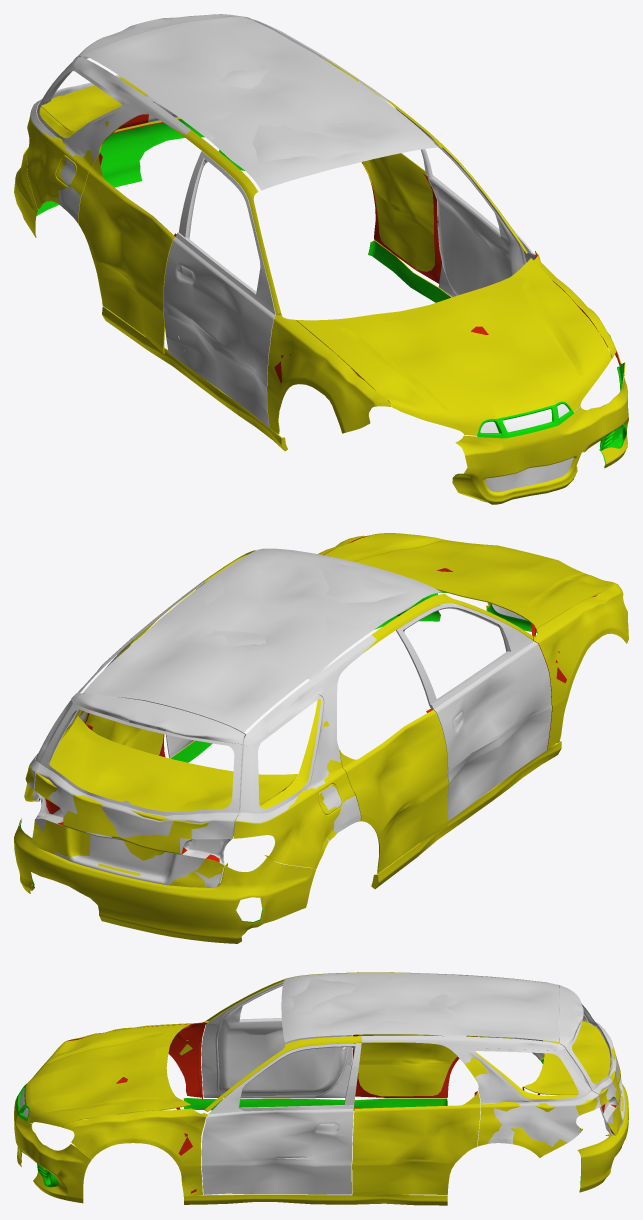
The model's file is sunburst2_beater.dae.
The picture shows the model from 3 angles, top to bottom: view 1: azimuth 30°, elevation 25°; view 2: azimuth 150°, elevation 25°; view 3: azimuth 270°, elevation 25°; orthographic projection. The views are drawn at different scales.
Visible parts, largest first — view 1: sunburst2_beater_hood, sunburst2_beater_roof_plain_wagon, sunburst2_beater_door_FR, sunburst2_beater_bumper_F, sunburst2_beater_door_sheet_RR, sunburst2_beater_door_FL, sunburst2_beater_fender_R, sunburst2_beater_door_sheet_RL, sunburst2_beater_quarterpanels, sunburst2_beater_quarterpanels_wagon, sunburst2_beater_roof_plain, sunburst2_beater_bumper_R (+5 smaller); view 2: sunburst2_beater_roof_plain_wagon, sunburst2_beater_trunk, sunburst2_beater_door_FR, sunburst2_beater_tailgate_wagon, sunburst2_beater_bumper_R, sunburst2_beater_hood, sunburst2_beater_door_sheet_RR, sunburst2_beater_quarterpanels_wagon, sunburst2_beater_quarterpanels, sunburst2_beater_fender_R, sunburst2_beater_roof_plain, sunburst2_beater_sideskirt_R (+2 smaller); view 3: sunburst2_beater_roof_plain_wagon, sunburst2_beater_door_FL, sunburst2_beater_hood, sunburst2_beater_door_sheet_RL, sunburst2_beater_door_FR, sunburst2_beater_quarterpanels_wagon, sunburst2_beater_fender_L, sunburst2_beater_door_sheet_RR, sunburst2_beater_quarterpanels, sunburst2_beater_trunk, sunburst2_beater_bumper_F, sunburst2_beater_tailgate_wagon (+5 smaller).
Part boxes in pixels (x1,y1,x2,y2): sunburst2_beater_hood: (296, 258, 611, 438); sunburst2_beater_roof_plain_wagon: (42, 16, 437, 190); sunburst2_beater_door_FR: (163, 151, 276, 426); sunburst2_beater_bumper_F: (452, 362, 628, 504); sunburst2_beater_door_sheet_RR: (78, 153, 176, 353); sunburst2_beater_door_FL: (394, 107, 535, 297); sunburst2_beater_fender_R: (267, 314, 391, 433); sunburst2_beater_door_sheet_RL: (361, 153, 441, 283); sunburst2_beater_quarterpanels: (26, 58, 527, 314); sunburst2_beater_quarterpanels_wagon: (30, 17, 391, 220); sunburst2_beater_roof_plain: (145, 65, 385, 175); sunburst2_beater_bumper_R: (14, 117, 244, 237); sunburst2_beater_roof_plain_wagon: (33, 548, 441, 836); sunburst2_beater_trunk: (32, 715, 297, 887); sunburst2_beater_door_FR: (396, 604, 551, 821); sunburst2_beater_tailgate_wagon: (35, 693, 245, 887); sunburst2_beater_bumper_R: (14, 818, 315, 943); sunburst2_beater_hood: (324, 533, 615, 636); sunburst2_beater_door_sheet_RR: (339, 709, 448, 873); sunburst2_beater_quarterpanels_wagon: (28, 578, 376, 841); sunburst2_beater_quarterpanels: (24, 550, 533, 869); sunburst2_beater_fender_R: (533, 583, 628, 749); sunburst2_beater_roof_plain: (170, 556, 421, 679); sunburst2_beater_sideskirt_R: (371, 741, 561, 889); sunburst2_beater_roof_plain_wagon: (281, 972, 600, 1102); sunburst2_beater_door_FL: (201, 1043, 361, 1194); sunburst2_beater_hood: (16, 1024, 191, 1127); sunburst2_beater_door_sheet_RL: (352, 1091, 480, 1195); sunburst2_beater_door_FR: (201, 982, 352, 1098); sunburst2_beater_quarterpanels_wagon: (361, 972, 601, 1146); sunburst2_beater_fender_L: (62, 1108, 207, 1196); sunburst2_beater_door_sheet_RR: (352, 1034, 478, 1097); sunburst2_beater_quarterpanels: (205, 972, 597, 1157); sunburst2_beater_trunk: (522, 1021, 623, 1135); sunburst2_beater_bumper_F: (14, 1097, 91, 1203); sunburst2_beater_tailgate_wagon: (559, 985, 625, 1135).
Bounding box in the file's own units: 1.7 × 4.36 × 1.24.
